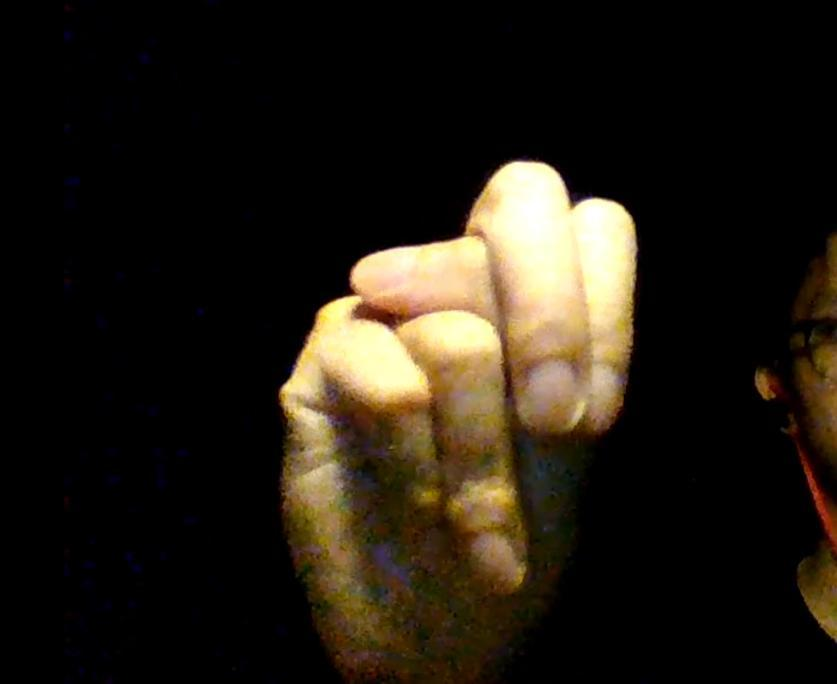n: (276, 157, 642, 681)
